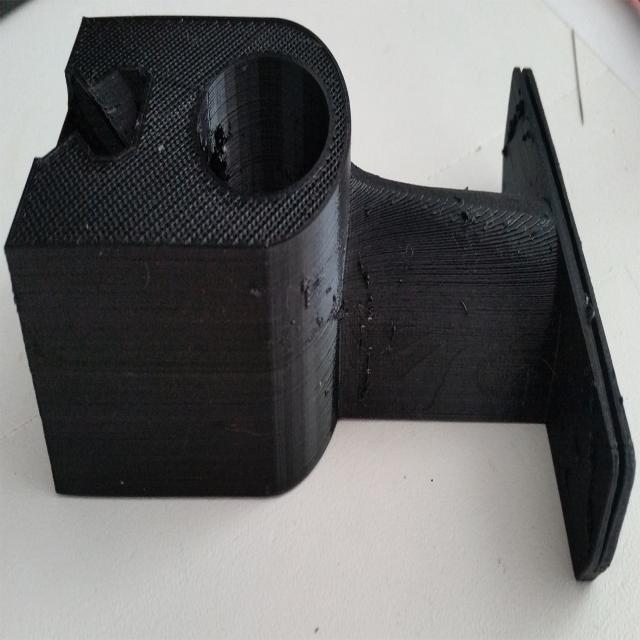blobs: (354, 248, 398, 368), (298, 270, 342, 342)
